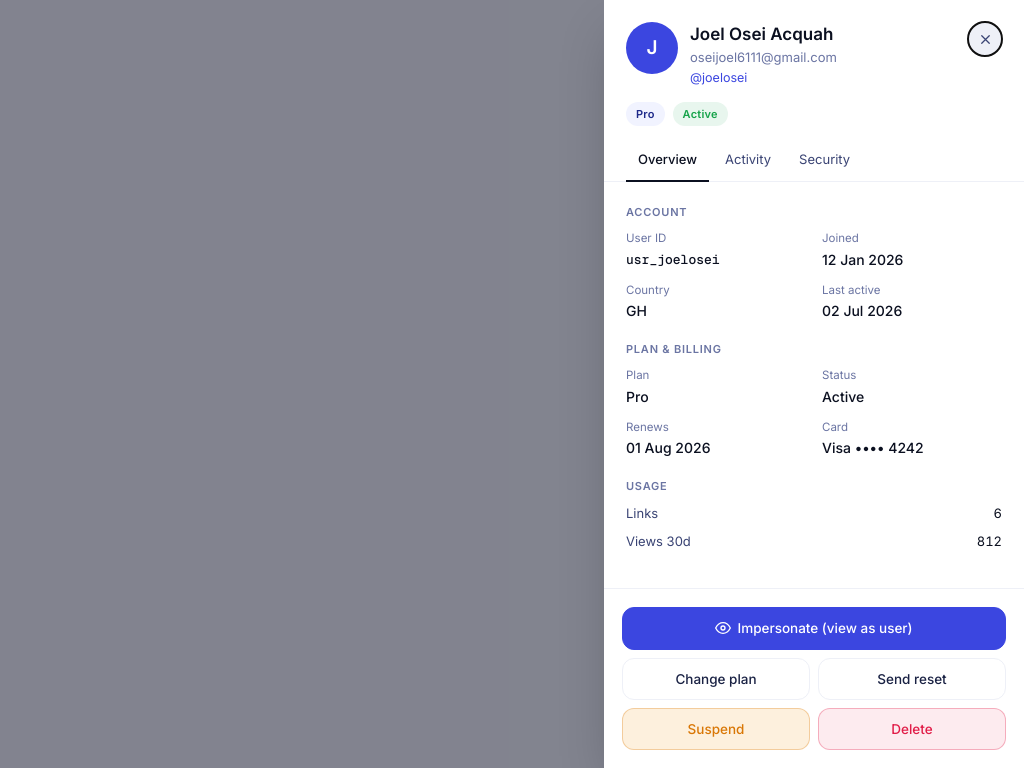
Test case: UserDetailDrawer › shows 2FA, sign-in methods, and recent logins on the security tab
Expected: the text "Joel Osei Acquah" is shown, left=690, top=22, right=837, bottom=48
Click the tab "Security" at (825, 161), box left=787, top=140, right=862, bottom=182
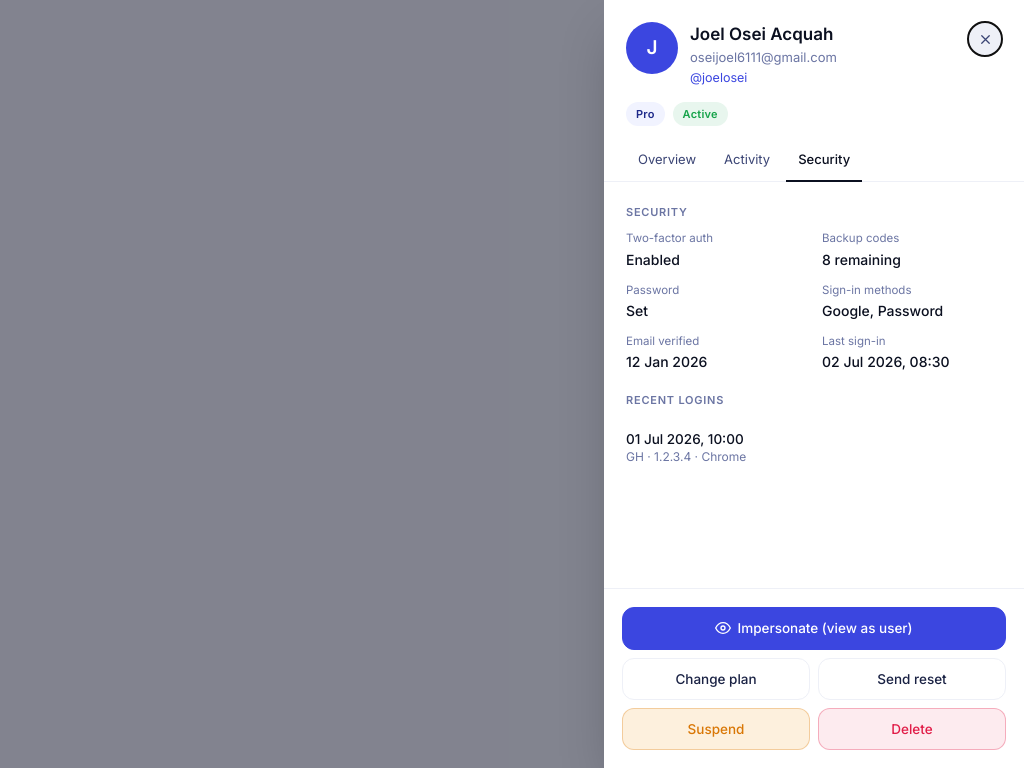
Expected: the text "Enabled" is shown, left=626, top=250, right=680, bottom=268
Expected: the text "8 remaining" is shown, left=822, top=250, right=901, bottom=268
Expected: the text "Google, Password" is shown, left=822, top=302, right=943, bottom=319
